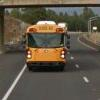Bus: (19, 17, 72, 72)
